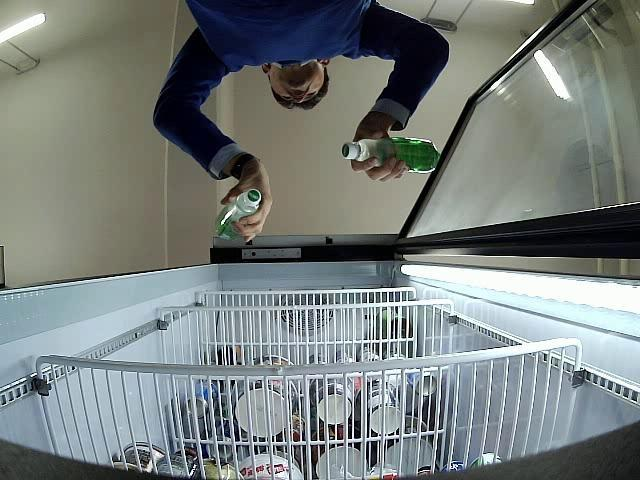18_trevi: (342, 138, 441, 173), (214, 188, 261, 236)
